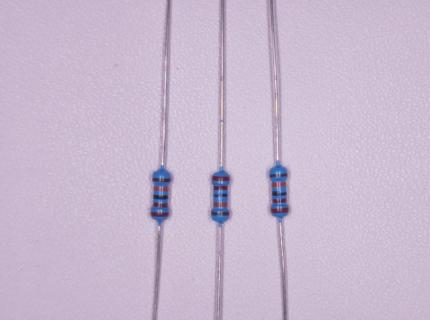Black band: (272, 191, 286, 196), (153, 195, 168, 199), (214, 193, 227, 197)
Brown band: (212, 211, 229, 216), (152, 178, 171, 182), (269, 173, 288, 177)
Orange band: (154, 186, 168, 191), (272, 182, 286, 187), (214, 202, 227, 206)
Red band: (151, 212, 169, 217), (212, 176, 230, 181), (271, 208, 289, 213), (153, 202, 168, 207), (273, 198, 286, 203), (214, 186, 228, 190)
